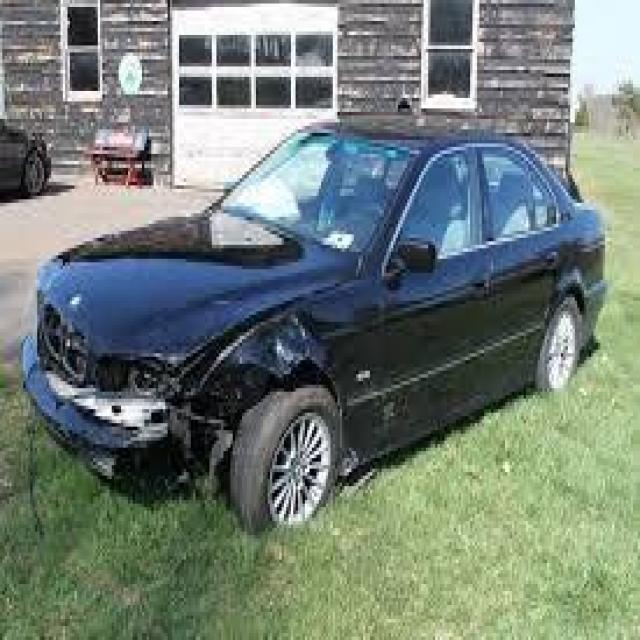damaged: (35, 280, 233, 518), (235, 311, 338, 409)
